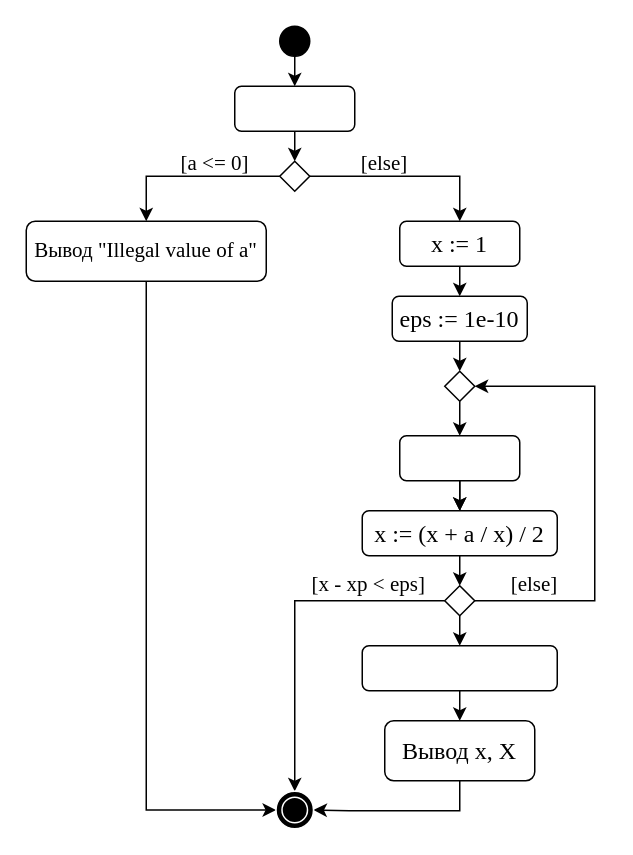
The diagram is 633 pixels wide and 855 high, and some of its shapes have lost their labels. Here are the shapes that lost their labels. From the top down, the centre of each, then its label:
At point (294, 108): "Ввод a".
At point (459, 457): "xp := x".
At point (459, 667): "X = √ a".
